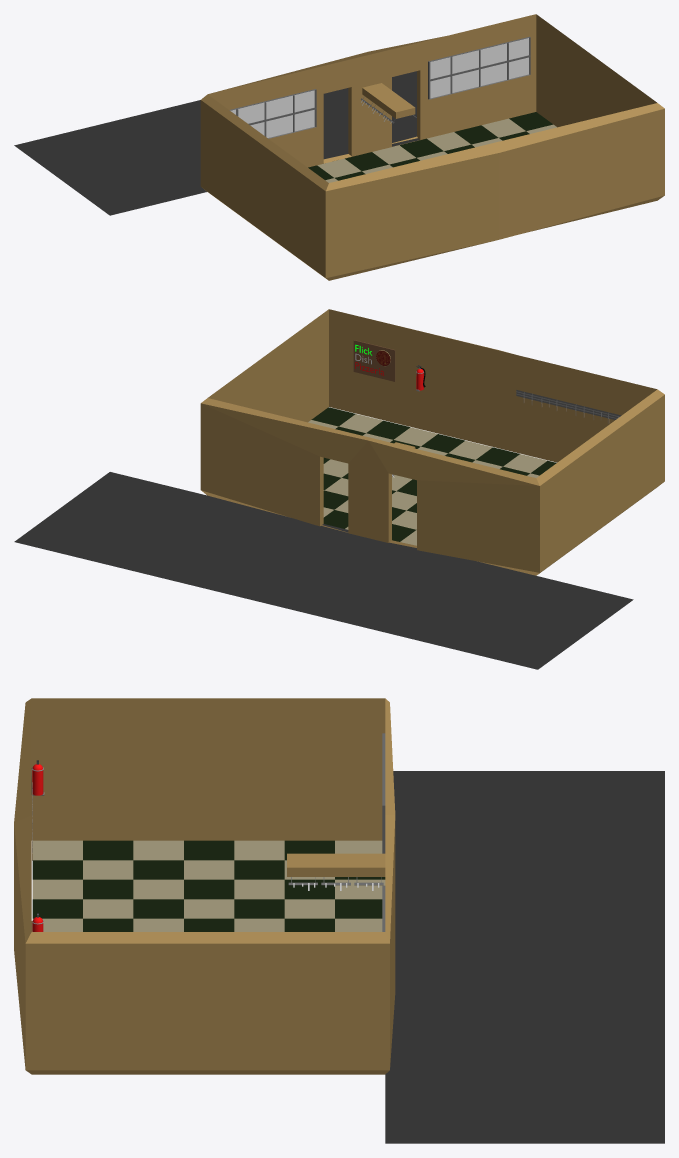
File: Room.fbx
The picture shows the model from 3 angles, top to bottom: view 1: azimuth 30°, elevation 25°; view 2: azimuth 150°, elevation 25°; view 3: azimuth 270°, elevation 25°; orthographic projection. The views are drawn at different scales.
Visible parts, largest first — view 1: Room; view 2: Room; view 3: Room.
Part boxes in pixels (left/top/right/bottom): Room: left=14, top=14, right=664, bottom=280; Room: left=14, top=309, right=664, bottom=669; Room: left=14, top=698, right=664, bottom=1143.
Size of the model in its own units: 5369 by 958 by 3964.
